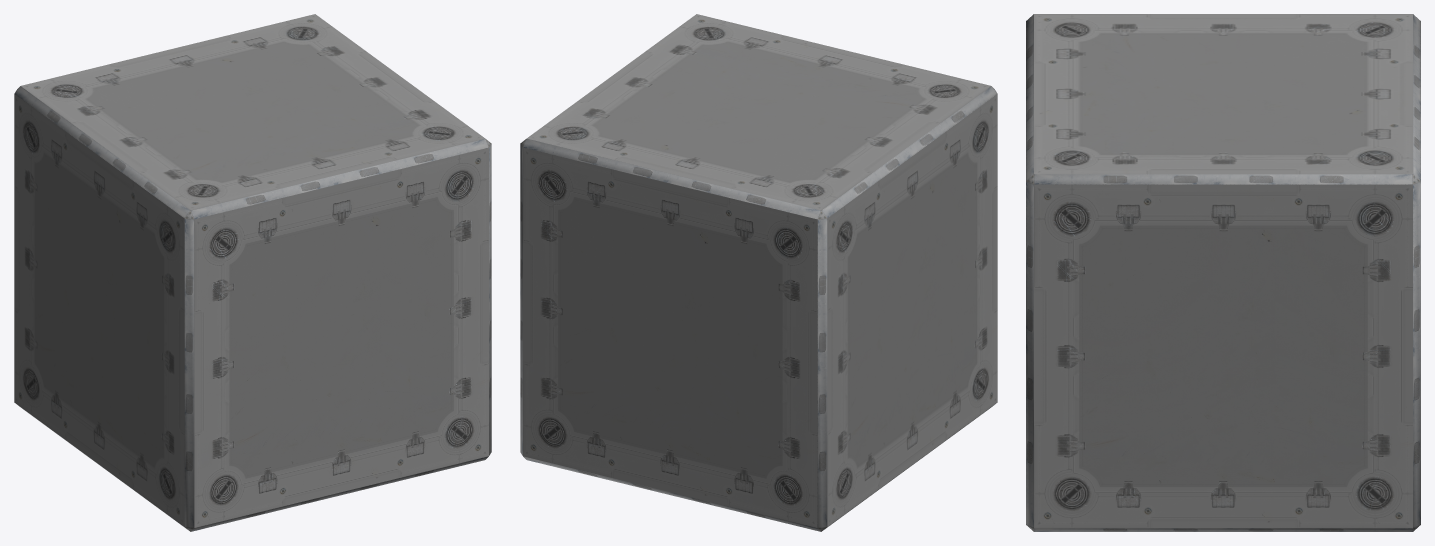
File: SM_Crate5.fbx
3 views of the same model, side by side, from view 1: azimuth 30°, elevation 25°; view 2: azimuth 150°, elevation 25°; view 3: azimuth 270°, elevation 25° (orthographic). The views are drawn at different scales.
Parts seen in each view (by area): view 1: SM_Crate5_LOD0; view 2: SM_Crate5_LOD0; view 3: SM_Crate5_LOD0.
Part boxes in pixels (box(x1,y1,x2,y2)): SM_Crate5_LOD0: box(14, 14, 491, 531); SM_Crate5_LOD0: box(520, 14, 997, 531); SM_Crate5_LOD0: box(1026, 14, 1420, 531).
Size of the model in its own units: 100 by 100 by 100.
2 materials, 2 textured.
